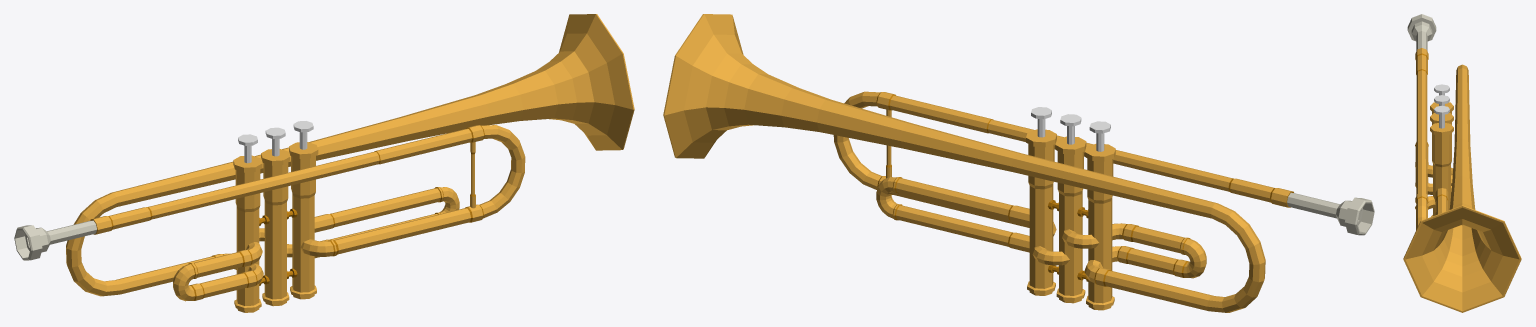
The model's file is doot.dae.
3 renders of one model, left to right at view 1: azimuth 30°, elevation 25°; view 2: azimuth 150°, elevation 25°; view 3: azimuth 270°, elevation 25°, orthographic. The views are drawn at different scales.
Parts seen in each view (by area): view 1: Trumpet, buttons; view 2: Trumpet, buttons; view 3: Trumpet, buttons.
Boxes of the visible parts, x1=… form: Trumpet: x1=14, y1=14, x2=634, y2=312; buttons: x1=238, y1=121, x2=313, y2=163; Trumpet: x1=663, y1=14, x2=1374, y2=312; buttons: x1=1031, y1=107, x2=1110, y2=151; Trumpet: x1=1403, y1=14, x2=1521, y2=312; buttons: x1=1434, y1=84, x2=1449, y2=128.
Size of the model in its own units: 9.72 by 2.12 by 3.04.
1 material, 1 textured.
